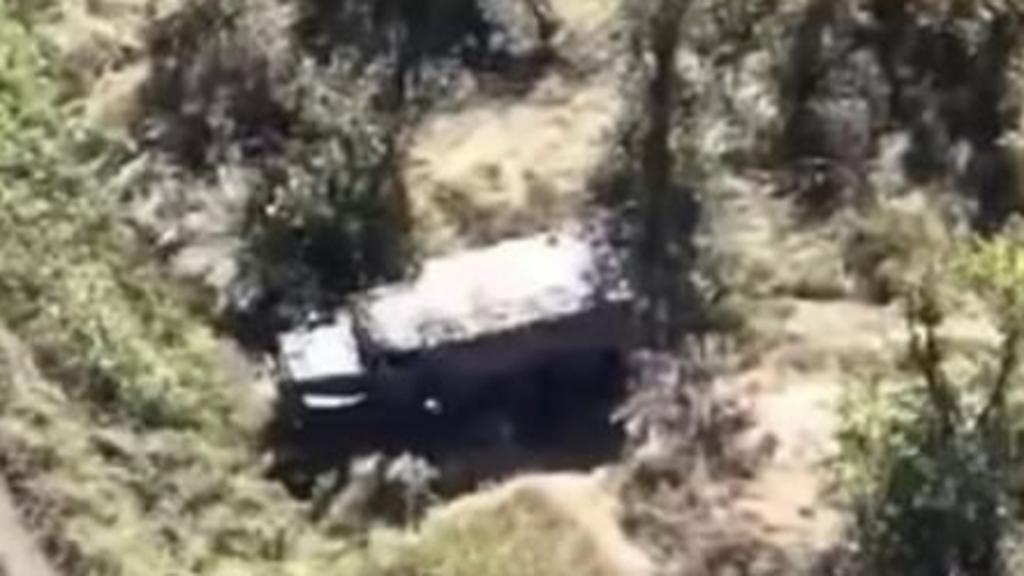TRUCK: (266, 210, 636, 442)
